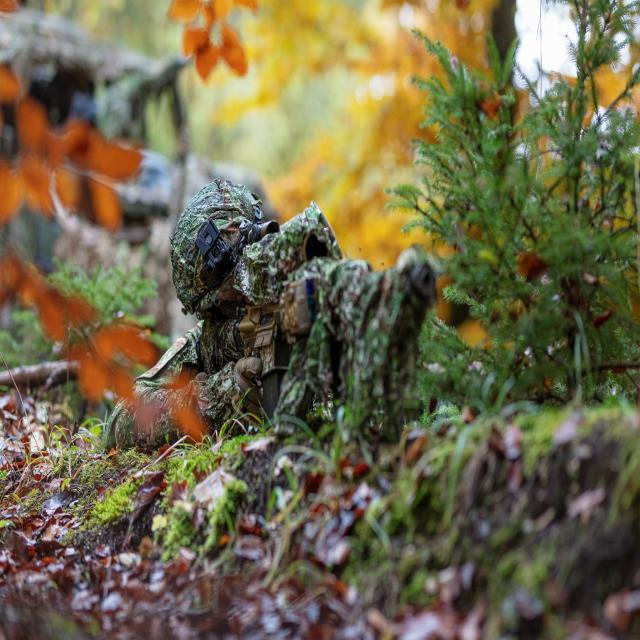Human: (101, 180, 514, 452)
